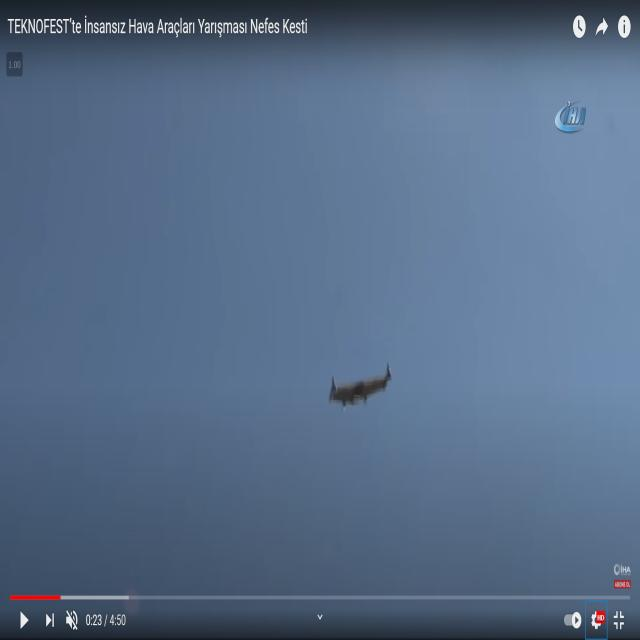iha: (359, 360, 361, 414)
